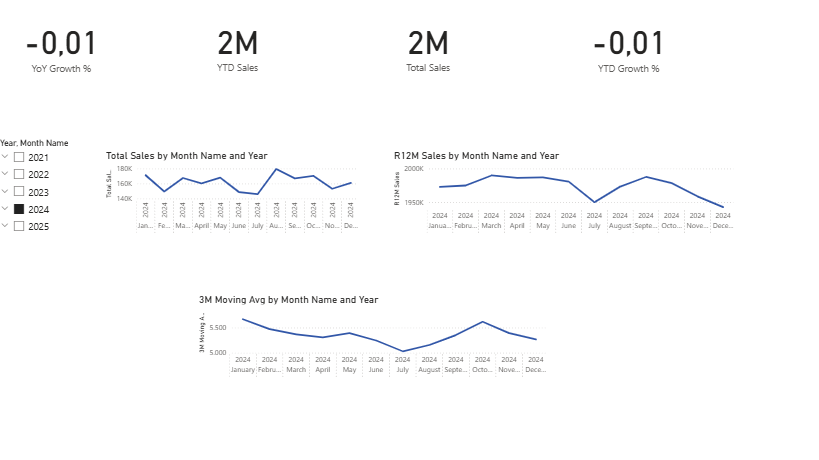

The dashboard page shown, as its layout file describes it:
{"tool":"powerbi","page":{"name":"Page 1","canvas":[1280,720],"ordinal":0},"visuals":[{"type":"card","fields":{"Values":["DateTable.Total Sales"]},"box":[620.7,11.8,225.4,153.1],"z":0},{"type":"card","fields":{"Values":["DateTable.YTD Sales"]},"box":[297.7,11.8,230.4,153.1],"z":1000},{"type":"card","fields":{"Values":["DateTable.YoY Growth %"]},"box":[0,37,232.1,104.3],"z":2000},{"type":"card","fields":{"Values":["DateTable.YTD Growth %"]},"box":[960.4,18.5,217,141.3],"z":3000},{"type":"slicer","fields":{"Values":["DateTable.Year","DateTable.Month Name"]},"box":[0,240.5,188.4,198.5],"z":5000},{"type":"lineChart","fields":{"Category":["DateTable.Month Name","DateTable.Year"],"Y":["DateTable.Total Sales"]},"box":[186.7,264.1,434,151.4],"z":5001},{"type":"lineChart","fields":{"Category":["DateTable.Month Name","DateTable.Year"],"Y":["DateTable.R12M Sales"]},"box":[669.4,264.1,580.3,151.4],"z":5002},{"type":"lineChart","fields":{"Category":["DateTable.Month Name","DateTable.Year"],"Y":["DateTable.3M Moving Avg"]},"box":[343.1,506.3,593.7,151.4],"z":5003}]}

Visuals, with their boxes in screenshot pixels (x1, y1, x2, y2), scaled from the page's 1280x720 canvas onto the 819x460 screenshot:
card - DateTable.Total Sales: bbox=[397, 8, 541, 105]
card - DateTable.YTD Sales: bbox=[190, 8, 338, 105]
card - DateTable.YoY Growth %: bbox=[0, 24, 149, 90]
card - DateTable.YTD Growth %: bbox=[615, 12, 753, 102]
slicer - DateTable.Year x DateTable.Month Name: bbox=[0, 154, 121, 280]
lineChart - DateTable.Month Name x DateTable.Year: bbox=[119, 169, 397, 265]
lineChart - DateTable.Month Name x DateTable.Year: bbox=[428, 169, 800, 265]
lineChart - DateTable.Month Name x DateTable.Year: bbox=[220, 323, 599, 420]
